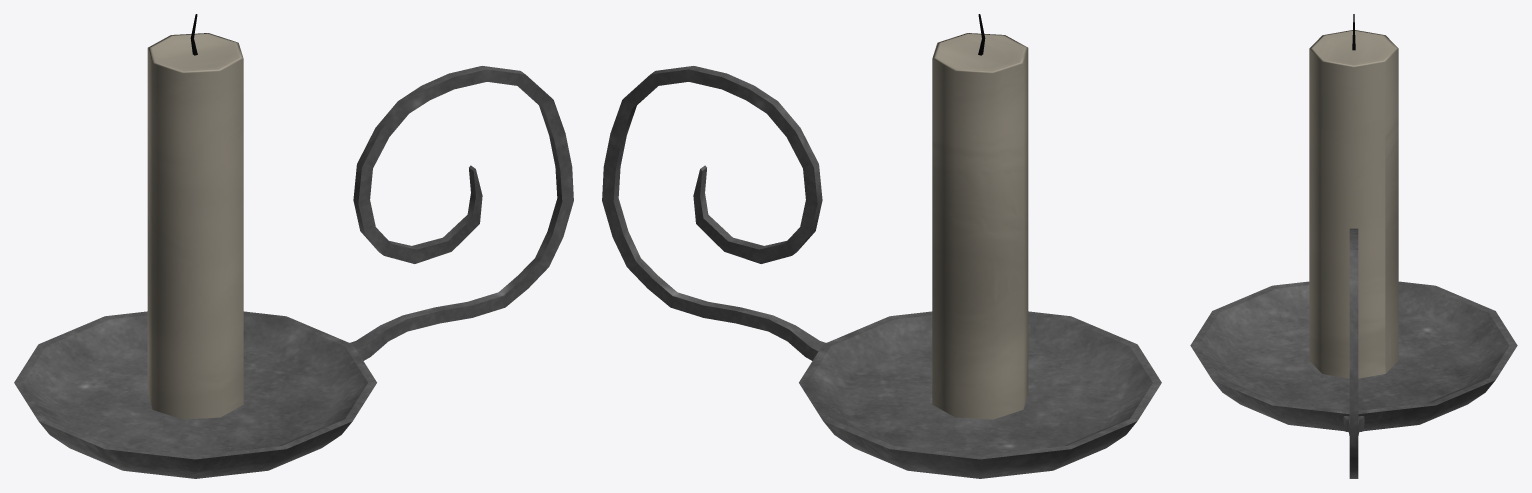
Rendered from Candle_0420.fbx.
3 renders of one model, left to right at view 1: azimuth 30°, elevation 25°; view 2: azimuth 150°, elevation 25°; view 3: azimuth 270°, elevation 25°, orthographic. The views are drawn at different scales.
Parts seen in each view (by area): view 1: Sara, candle, mochite; view 2: Sara, candle, mochite; view 3: candle, Sara, mochite.
Boxes of the visible parts, x1,y1,x2,y2 form: Sara: (14,311,376,478); candle: (147,33,243,419); mochite: (350,66,573,360); Sara: (799,311,1161,478); candle: (932,33,1028,419); mochite: (602,66,825,360); candle: (1309,30,1398,378); Sara: (1190,281,1517,431); mochite: (1343,228,1364,478).
Bounding box in the file's own units: 61.98 × 45.76 × 36.57.
2 materials, 2 textured.
